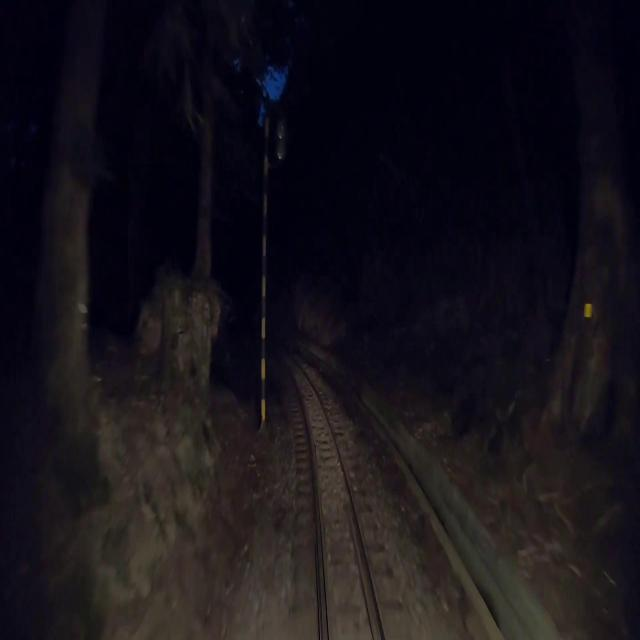rail-track: (281, 355, 382, 639)
